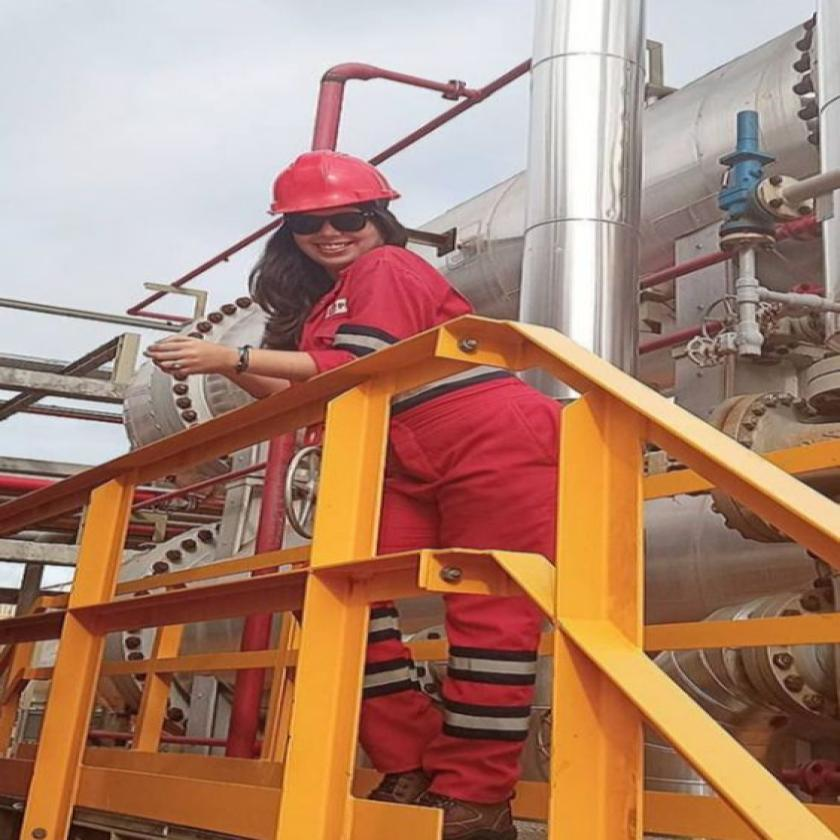Con_casco: (212, 118, 433, 290)
